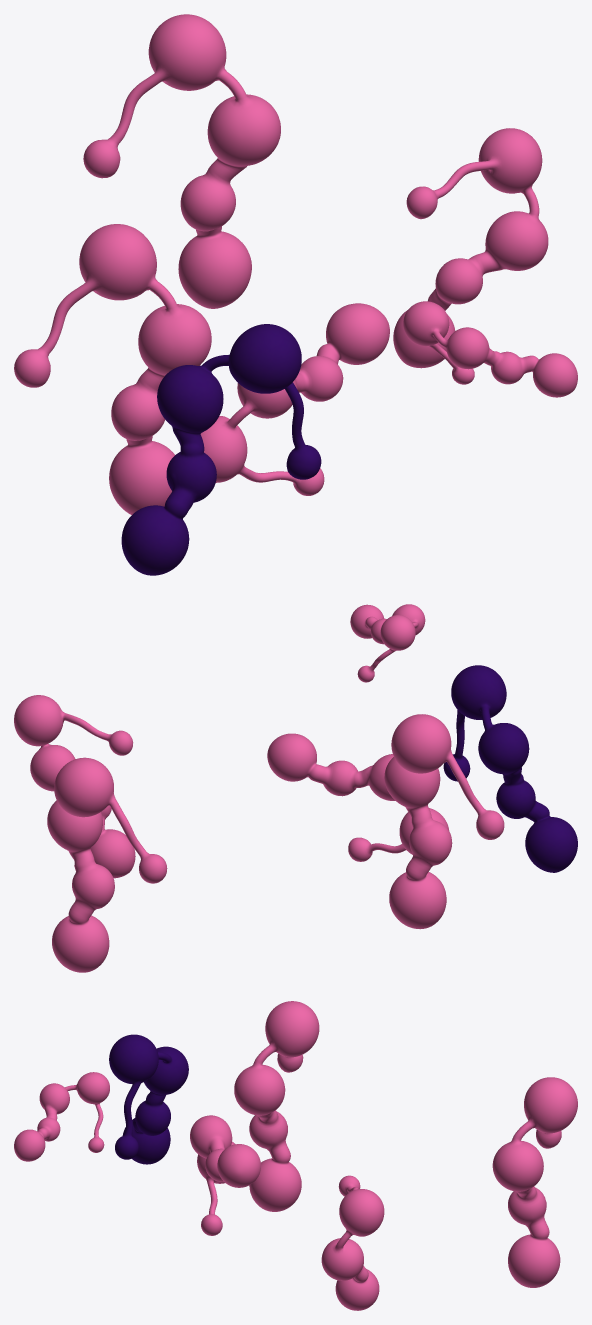
3 views of the same model, one above another, from view 1: azimuth 30°, elevation 25°; view 2: azimuth 150°, elevation 25°; view 3: azimuth 270°, elevation 25° (orthographic). The views are drawn at different scales.
Visible parts, largest first — view 1: Retopo_inst_6.001; view 2: Retopo_inst_6.001; view 3: Retopo_inst_6.001.
Boxes of the visible parts, x1,y1,x2,y2 form: Retopo_inst_6.001: (14, 14, 577, 575); Retopo_inst_6.001: (14, 604, 577, 972); Retopo_inst_6.001: (14, 1001, 577, 1310).
Bounding box in the file's own units: 3.81 × 1.89 × 4.56.
